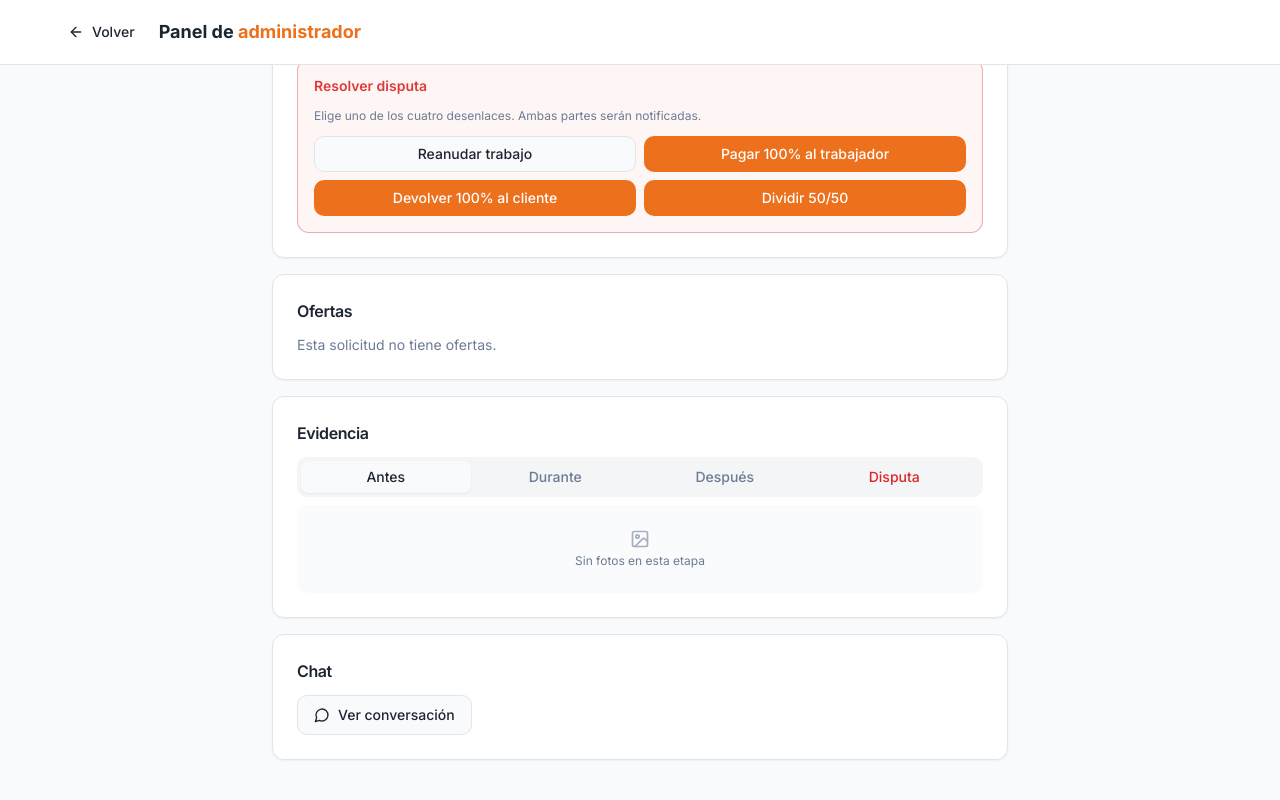
it: AdminSolicitudDetail › abre ChatSolicitudDialog al hacer clic en 'Ver conversación'
(page scrolled)
Click the button "Ver conversación". click: {"x": 384, "y": 715}
box: [297,695,472,735]
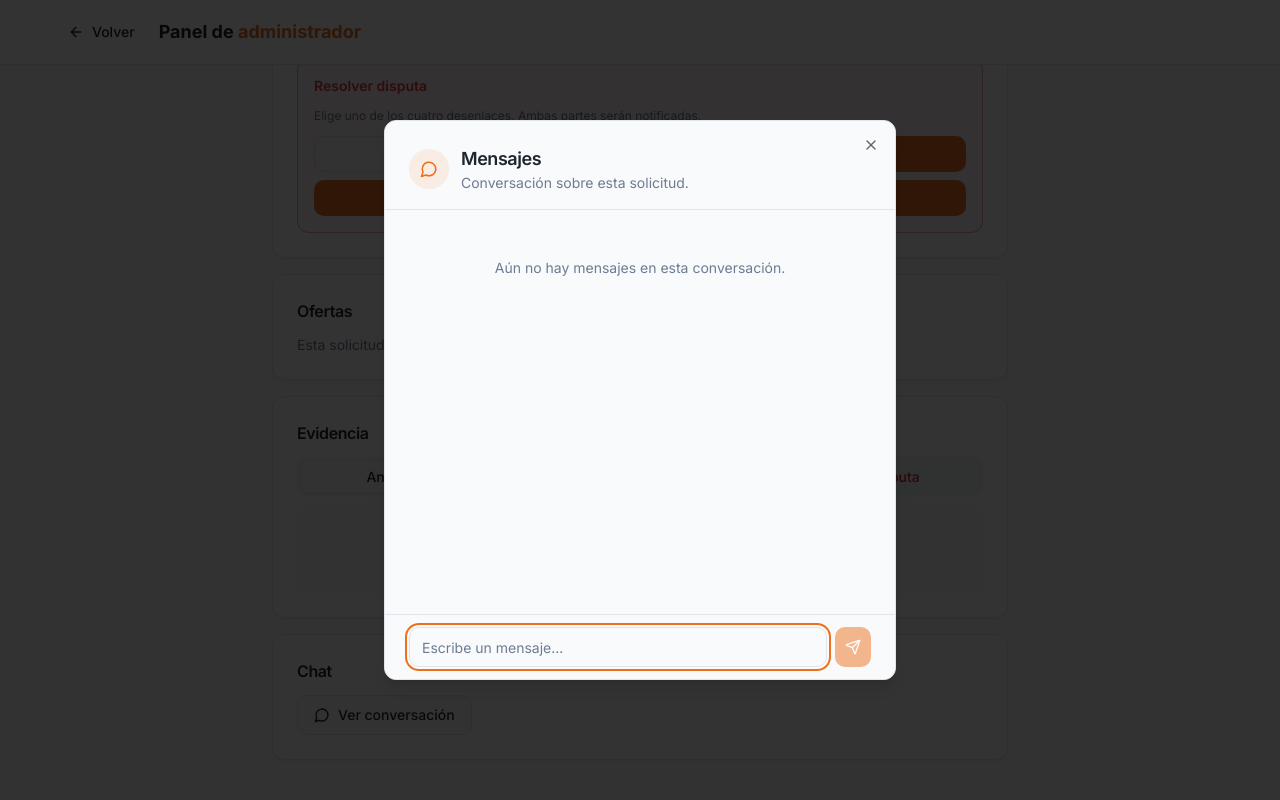
Expected: the text "Aún no hay mensajes en esta conversación." is shown, [495,259,785,276]
